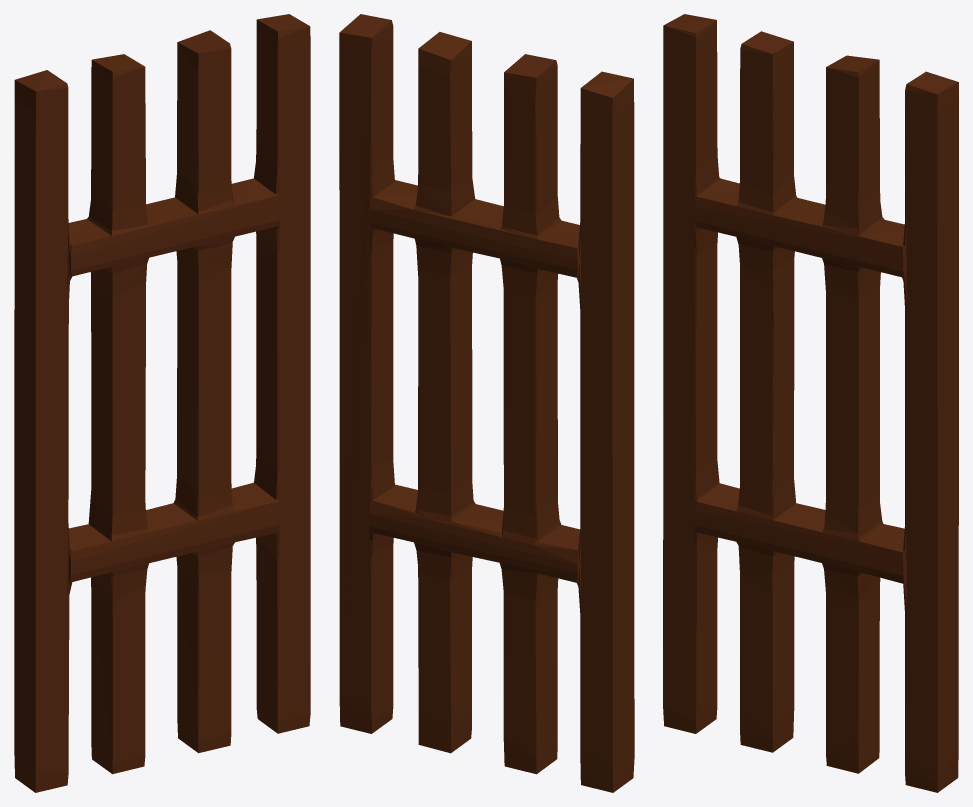
Rendered from Jail Bomboktan.fbx.
The picture shows the model from 3 angles, left to right: view 1: azimuth 30°, elevation 25°; view 2: azimuth 150°, elevation 25°; view 3: azimuth 330°, elevation 25°; orthographic projection.
Parts seen in each view (by area): view 1: GardeFou.001; view 2: GardeFou.001; view 3: GardeFou.001.
Part boxes in pixels (x1,y1,x2,y2): GardeFou.001: (14,14,310,792); GardeFou.001: (339,14,634,792); GardeFou.001: (663,14,958,792).
Bounding box in the file's own units: 520 × 1266 × 83.85.
